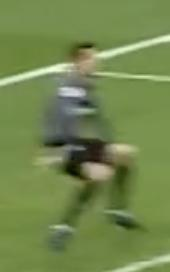goalkeeper: (30, 25, 161, 262)
